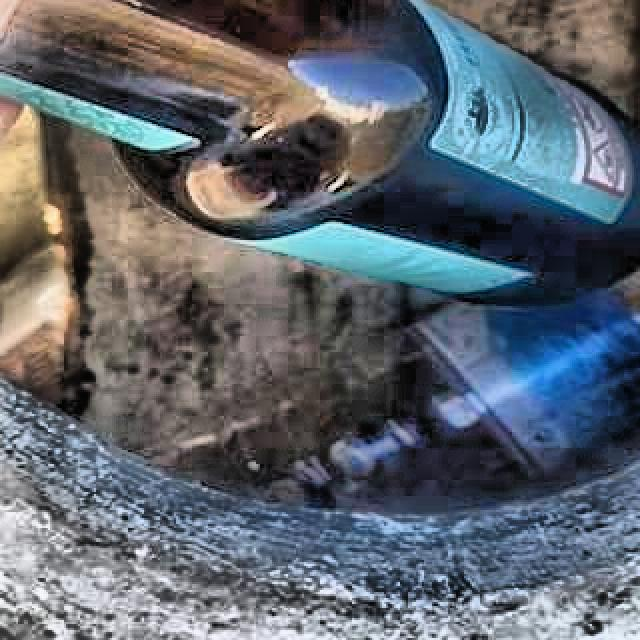glass: (0, 0, 640, 305)
